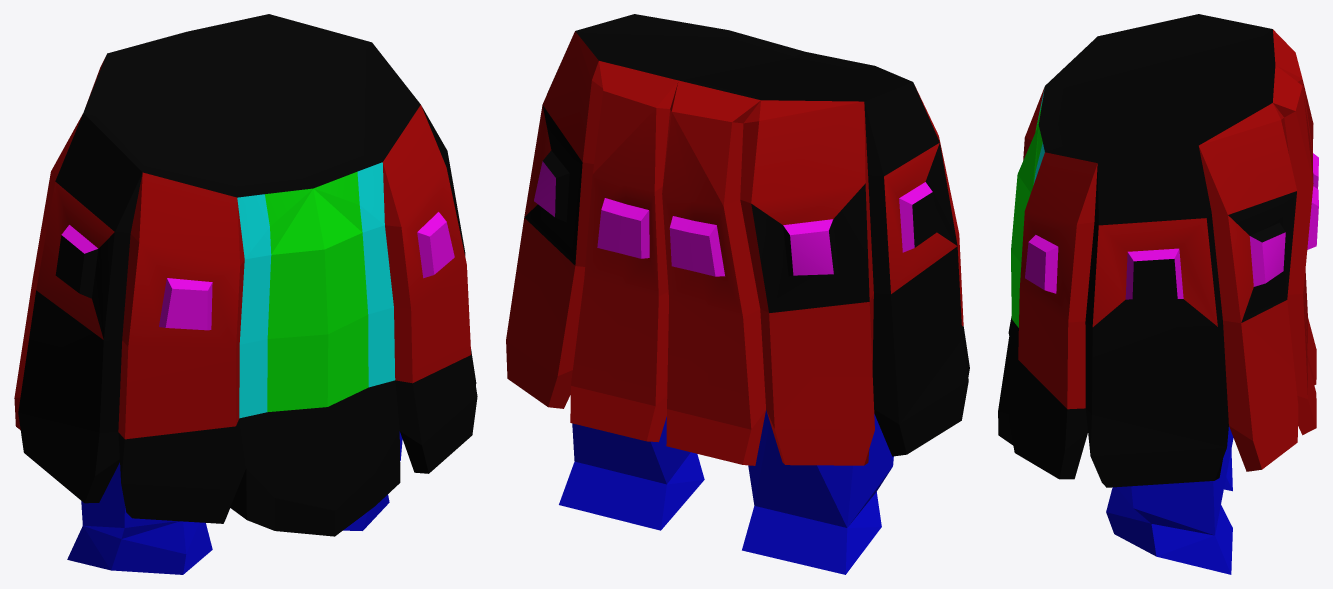
File: Chr_Hips_Male_Static_25.fbx
The picture shows the model from 3 angles, left to right: view 1: azimuth 30°, elevation 25°; view 2: azimuth 150°, elevation 25°; view 3: azimuth 270°, elevation 25°; orthographic projection. The views are drawn at different scales.
Visible parts, largest first — view 1: Chr_Hips_Male_25; view 2: Chr_Hips_Male_25; view 3: Chr_Hips_Male_25.
Boxes of the visible parts, left/top/right/bottom form: Chr_Hips_Male_25: left=14, top=14, right=477, bottom=574; Chr_Hips_Male_25: left=506, top=14, right=969, bottom=574; Chr_Hips_Male_25: left=998, top=14, right=1318, bottom=574.
Size of the model in its own units: 47.65 by 55.45 by 36.27.
